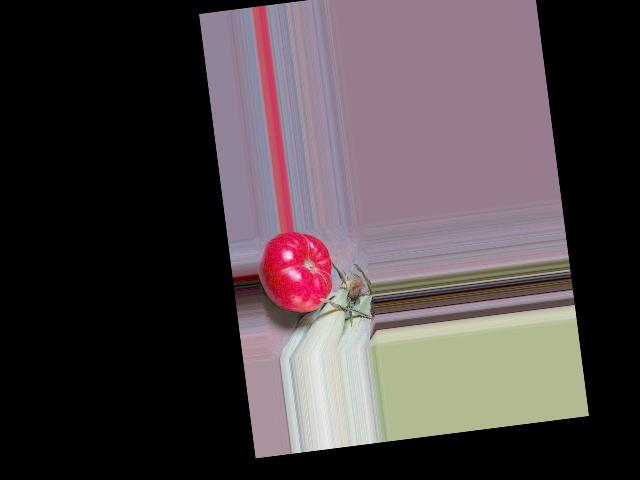tomato: (254, 228, 337, 317)
